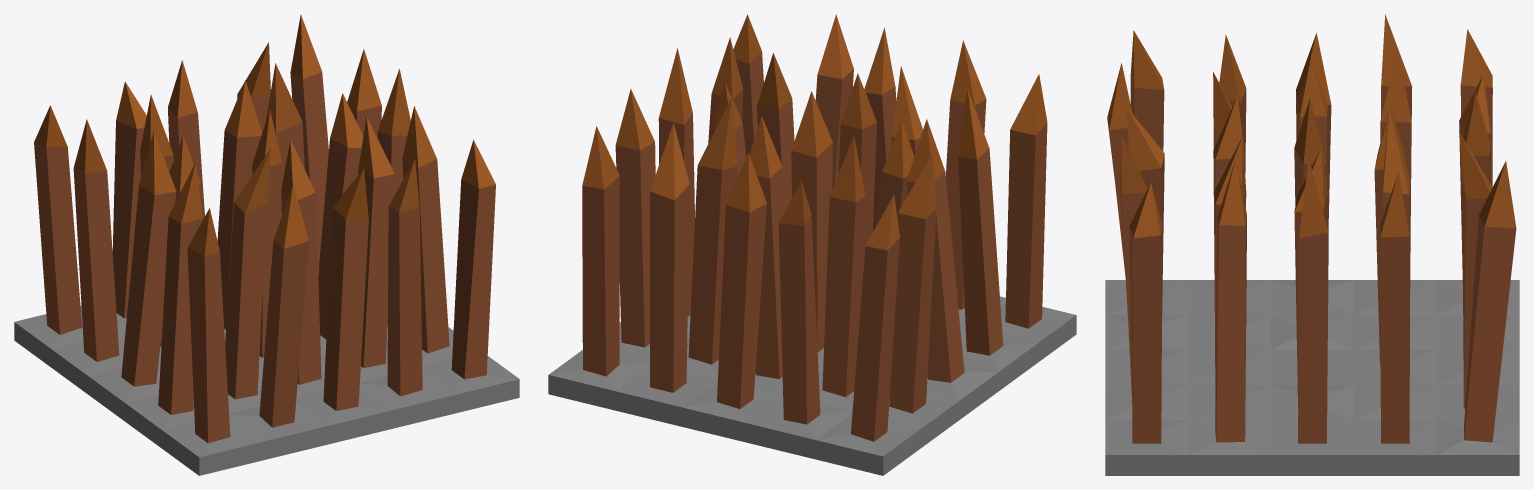
File: spikes_trap.fbx
3 views of the same model, side by side, from view 1: azimuth 30°, elevation 25°; view 2: azimuth 150°, elevation 25°; view 3: azimuth 270°, elevation 25° (orthographic). The views are drawn at different scales.
Parts seen in each view (by area): view 1: spikes_trap; view 2: spikes_trap; view 3: spikes_trap.
Part boxes in pixels (x1,y1,x2,y2): spikes_trap: (14,14,519,475); spikes_trap: (548,14,1076,475); spikes_trap: (1105,14,1519,475).
Bounding box in the file's own units: 180 × 145 × 180.
